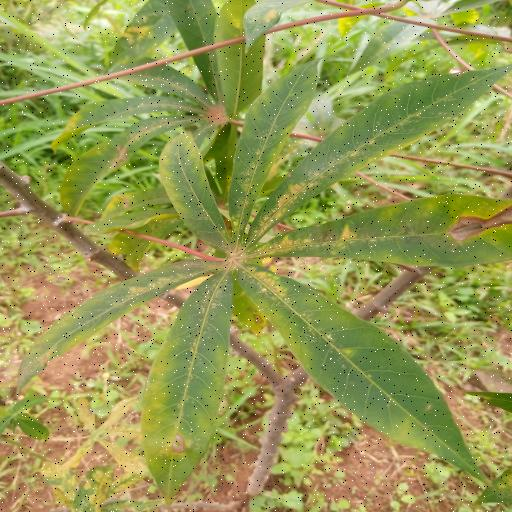Cassava_Mosaic: (27, 50, 512, 484)
